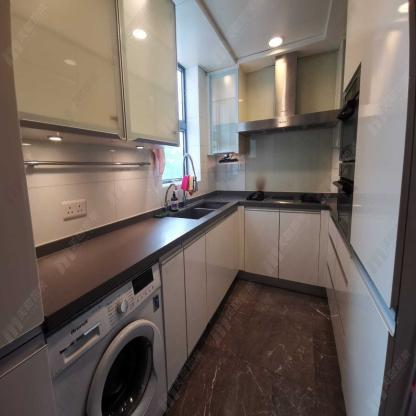Cupboard: (11, 0, 178, 144)
Exhaust Hood: (236, 107, 341, 138)
Faucet: (180, 150, 198, 203)
Sink: (146, 197, 240, 229)
Stove: (296, 192, 329, 206), (241, 190, 272, 203)
Washing Machine: (43, 261, 169, 416)
